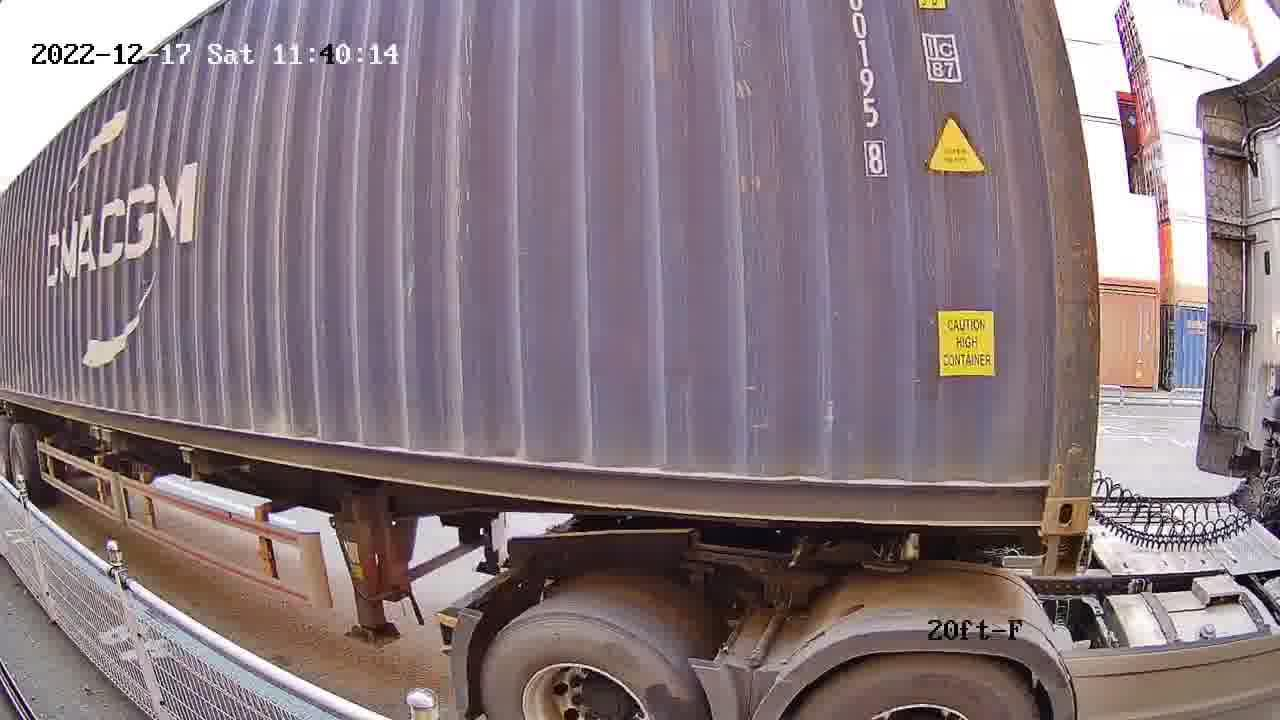Cone: (1036, 536, 1084, 582)
Hole_R: (995, 449, 1097, 532)
Tire: (481, 616, 698, 714), (792, 657, 1043, 719)
